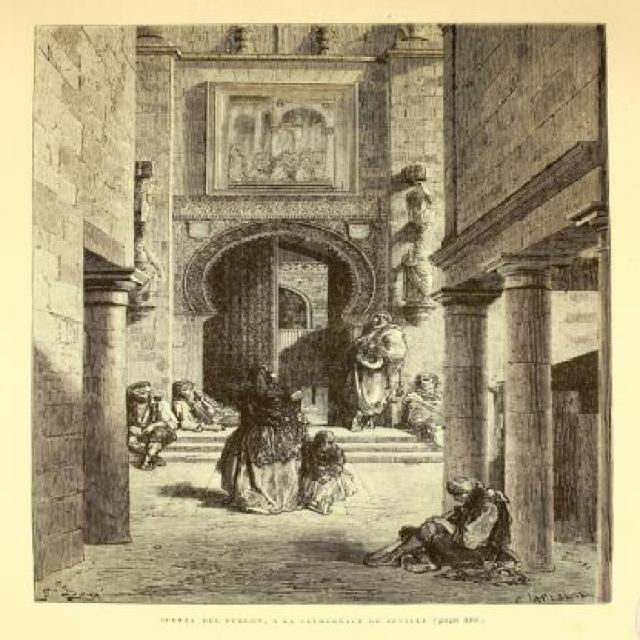Person: (217, 365, 312, 513), (397, 474, 512, 578), (338, 311, 408, 432), (296, 431, 362, 514), (125, 376, 181, 470), (167, 376, 239, 432), (398, 368, 442, 450)
